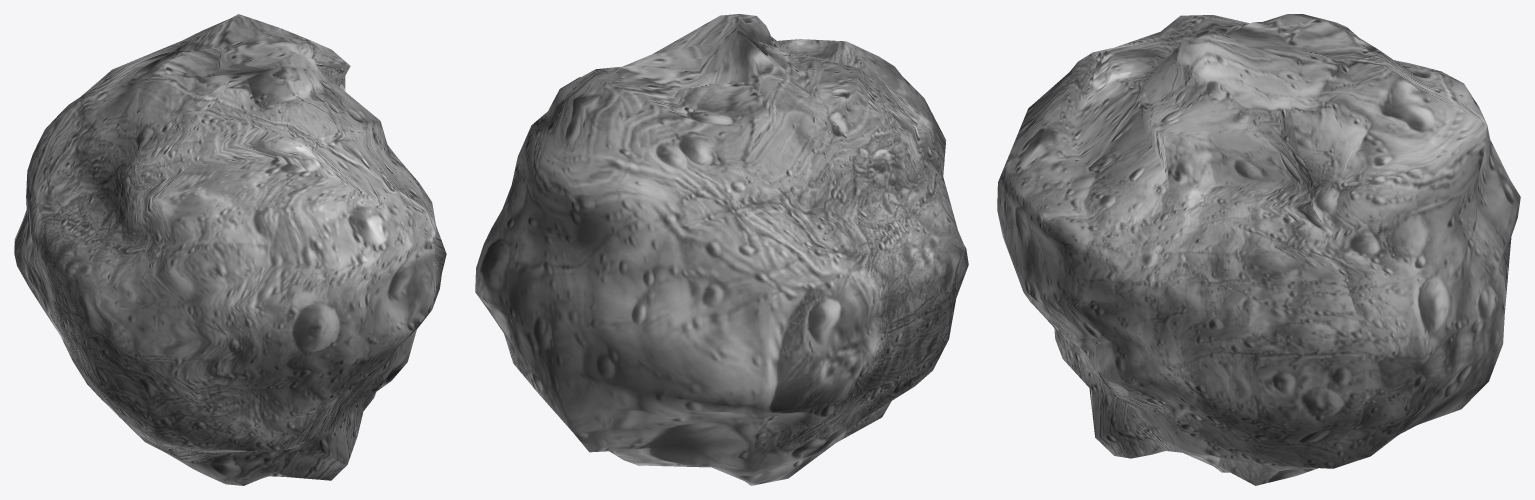
The model's file is rock3.fbx.
3 views of the same model, side by side, from view 1: azimuth 30°, elevation 25°; view 2: azimuth 150°, elevation 25°; view 3: azimuth 270°, elevation 25° (orthographic). The views are drawn at different scales.
Visible parts, largest first — view 1: pSphere1; view 2: pSphere1; view 3: pSphere1.
Boxes of the visible parts, <box> form: pSphere1: <box>14,14,446,485</box>; pSphere1: <box>475,14,968,485</box>; pSphere1: <box>997,14,1520,485</box>.
Size of the model in its own units: 11.65 by 12.39 by 13.29.
